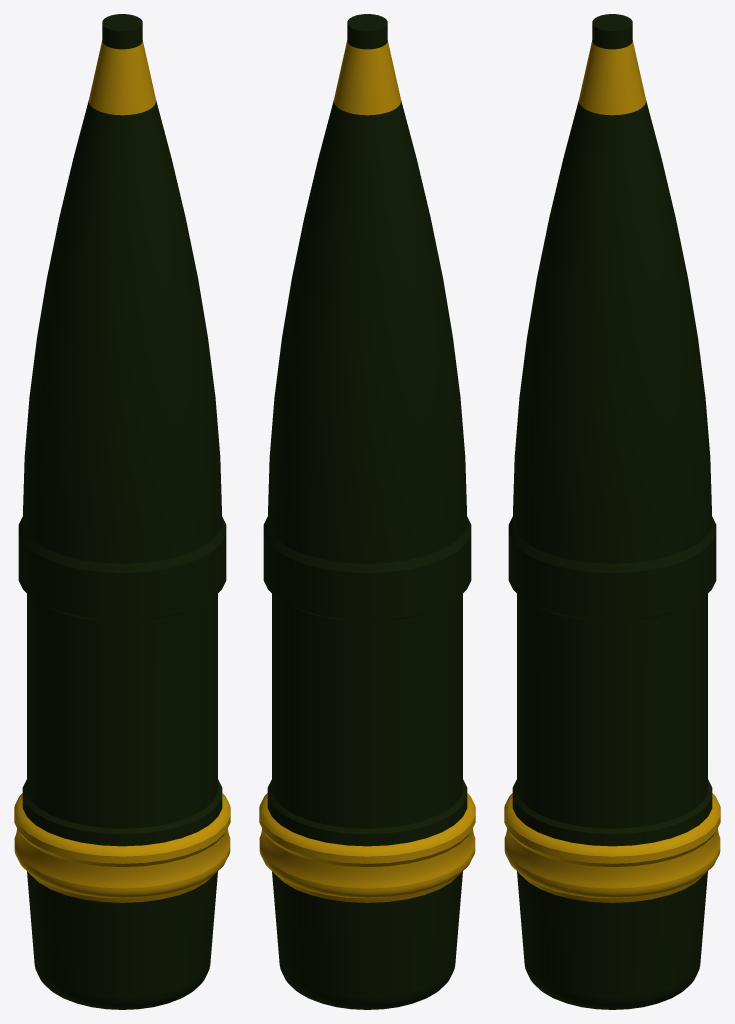
Rendered from 加农炮弹.FBX.
3 renders of one model, left to right at view 1: azimuth 30°, elevation 25°; view 2: azimuth 150°, elevation 25°; view 3: azimuth 270°, elevation 25°, orthographic.
Parts seen in each view (by area): view 1: Line16, Line21, Line17, Line22; view 2: Line16, Line21, Line17, Line22; view 3: Line16, Line21, Line17, Line22.
Boxes of the visible parts, x1,y1,x2,y2 form: Line16: (18,100,226,1009); Line21: (14,793,230,902); Line17: (89,40,155,115); Line22: (102,14,142,49); Line16: (263,100,471,1009); Line21: (259,793,475,902); Line17: (334,40,400,115); Line22: (347,14,387,49); Line16: (508,100,716,1009); Line21: (504,793,720,902); Line17: (579,40,645,115); Line22: (592,14,632,49).
Bounding box in the file's own units: 82.66 × 402 × 82.21.
